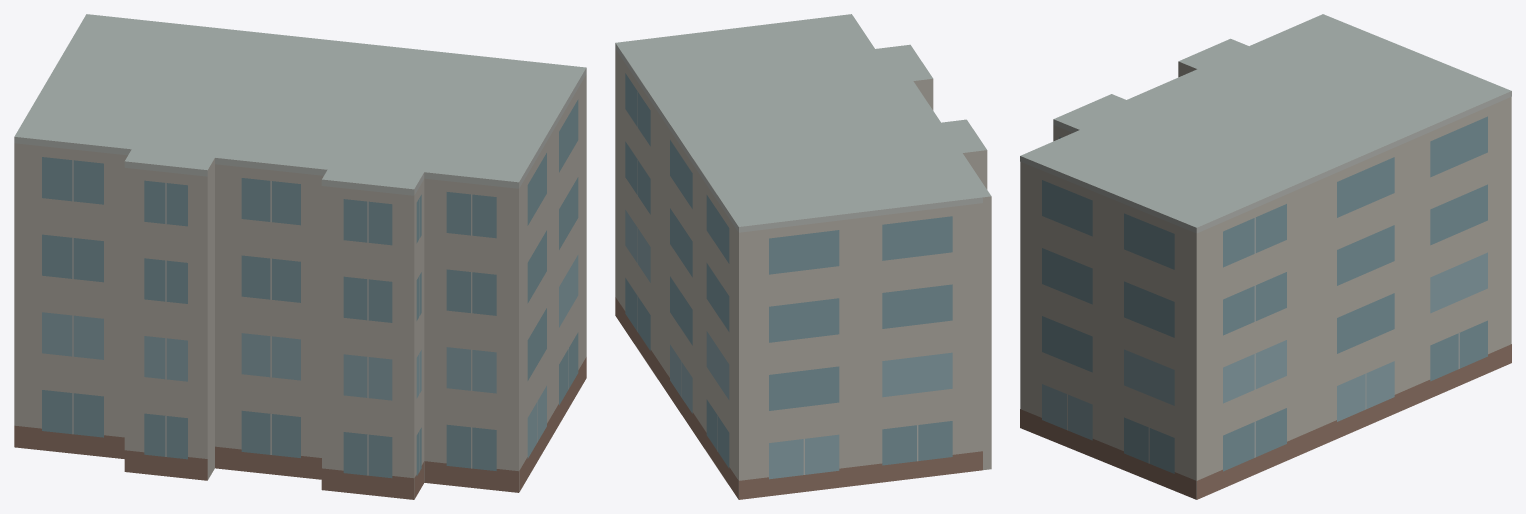
Rendered from survey-upis-32924801.glb.
3 views of the same model, side by side, from view 1: azimuth 30°, elevation 25°; view 2: azimuth 150°, elevation 25°; view 3: azimuth 270°, elevation 25° (orthographic). The views are drawn at different scales.
Parts seen in each view (by area): view 1: survey-upis-32924801.tmp; view 2: survey-upis-32924801.tmp; view 3: survey-upis-32924801.tmp.
Part boxes in pixels (x1,y1,x2,y2): survey-upis-32924801.tmp: (14,14,586,499); survey-upis-32924801.tmp: (615,14,991,499); survey-upis-32924801.tmp: (1020,14,1511,499).
Bounding box in the file's own units: 19.73 × 11.7 × 19.17.
